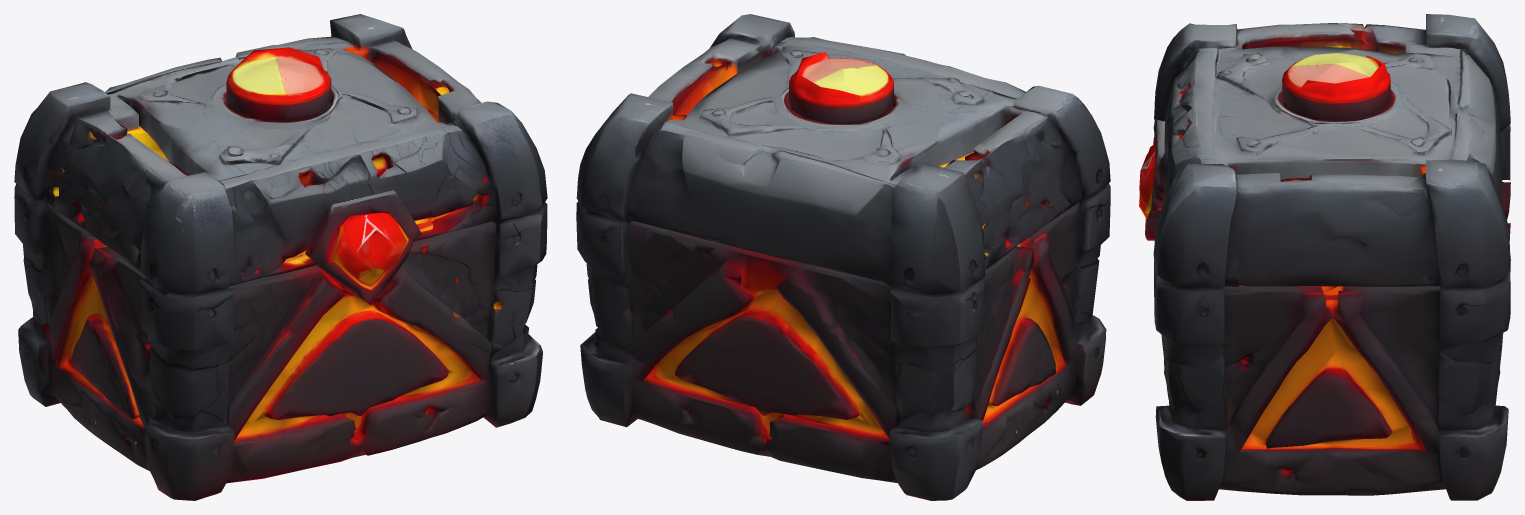
Rendered from GM_Chest_LavaGlyph_raw.glb.
3 views of the same model, side by side, from view 1: azimuth 30°, elevation 25°; view 2: azimuth 150°, elevation 25°; view 3: azimuth 270°, elevation 25° (orthographic). The views are drawn at different scales.
Visible parts, largest first — view 1: tripo_node_da4efefa-3ad8-4276-8aaa-dd34f85f12e3; view 2: tripo_node_da4efefa-3ad8-4276-8aaa-dd34f85f12e3; view 3: tripo_node_da4efefa-3ad8-4276-8aaa-dd34f85f12e3.
Part boxes in pixels (x1,y1,x2,y2): tripo_node_da4efefa-3ad8-4276-8aaa-dd34f85f12e3: [14, 14, 547, 500]; tripo_node_da4efefa-3ad8-4276-8aaa-dd34f85f12e3: [576, 14, 1110, 500]; tripo_node_da4efefa-3ad8-4276-8aaa-dd34f85f12e3: [1139, 14, 1510, 500].
Bounding box in the file's own units: 0.9794 × 0.8178 × 0.7898.
1 material, 1 textured.
